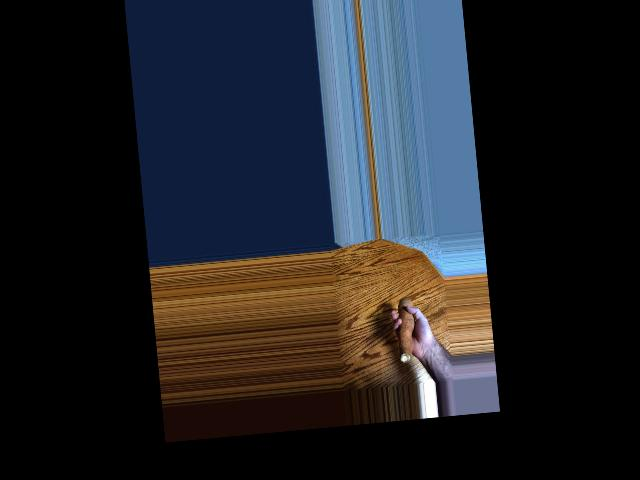sweet_potato: (392, 293, 414, 366)
